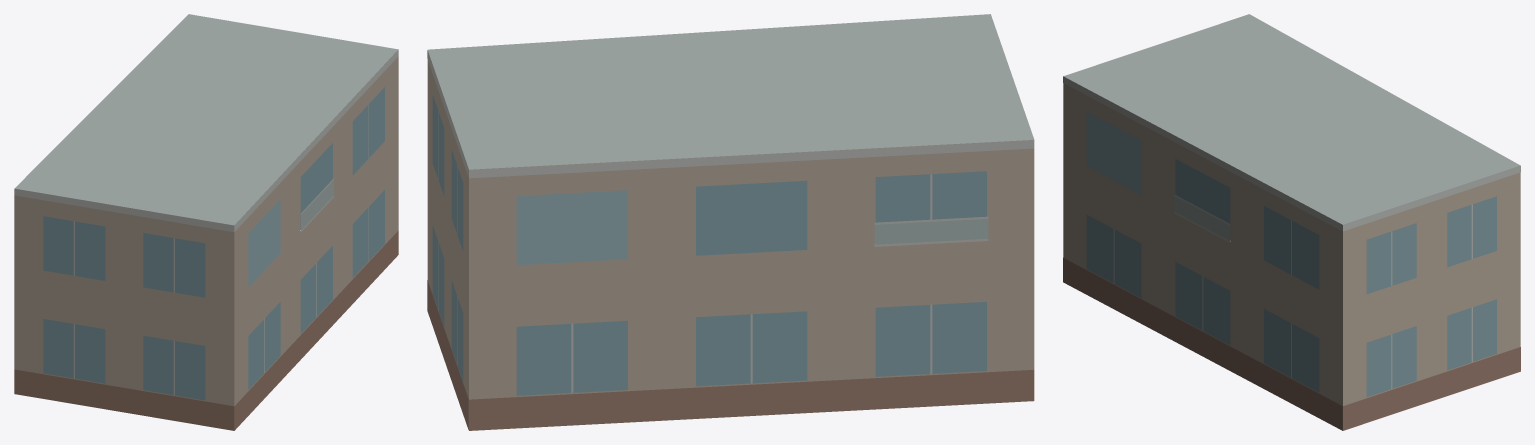
The model's file is survey-upis-33004035.glb.
3 renders of one model, left to right at view 1: azimuth 30°, elevation 25°; view 2: azimuth 150°, elevation 25°; view 3: azimuth 270°, elevation 25°, orthographic. The views are drawn at different scales.
Parts seen in each view (by area): view 1: survey-upis-33004035.tmp; view 2: survey-upis-33004035.tmp; view 3: survey-upis-33004035.tmp.
Part boxes in pixels (box(x1,y1,x2,y2)): survey-upis-33004035.tmp: box(14, 14, 398, 430); survey-upis-33004035.tmp: box(427, 14, 1034, 430); survey-upis-33004035.tmp: box(1063, 14, 1520, 430).
Bounding box in the file's own units: 16.25 × 7.4 × 14.9.
